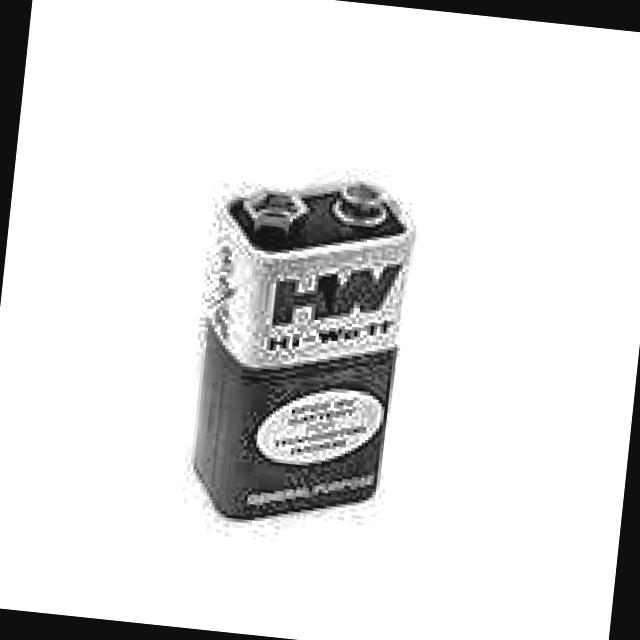Battery: (192, 180, 412, 530)
